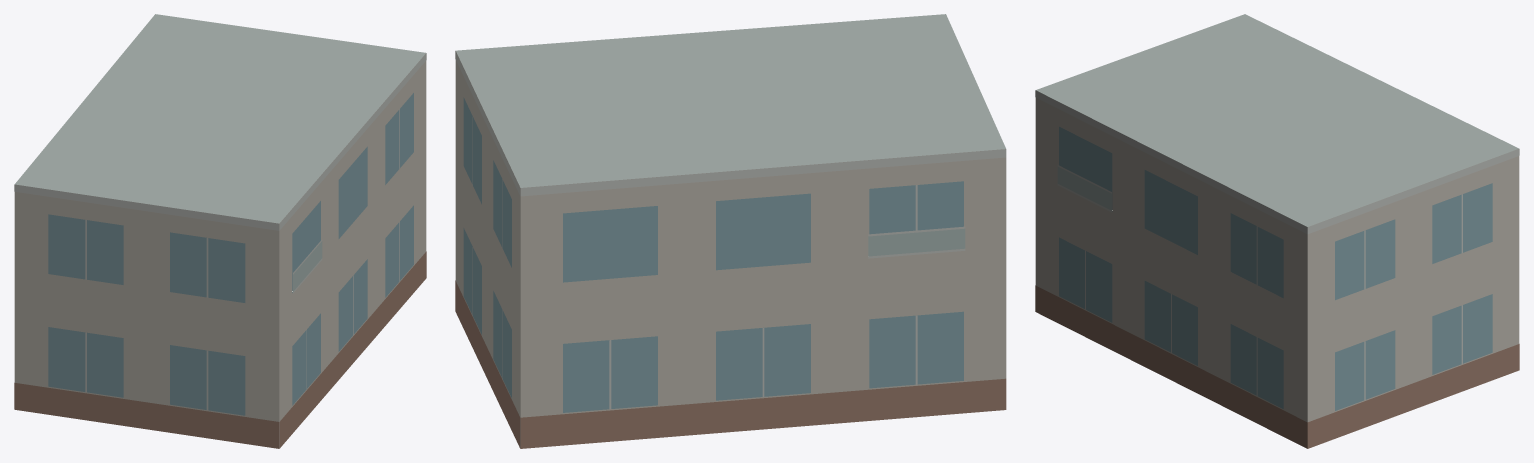
File: survey-upis-32637296.glb
3 renders of one model, left to right at view 1: azimuth 30°, elevation 25°; view 2: azimuth 150°, elevation 25°; view 3: azimuth 270°, elevation 25°, orthographic. The views are drawn at different scales.
Parts seen in each view (by area): view 1: survey-upis-32637296.tmp; view 2: survey-upis-32637296.tmp; view 3: survey-upis-32637296.tmp.
Part boxes in pixels (x1,y1,x2,y2): survey-upis-32637296.tmp: (14,14,426,448); survey-upis-32637296.tmp: (455,14,1006,448); survey-upis-32637296.tmp: (1035,14,1519,448).
Bounding box in the file's own units: 15.47 × 7.5 × 14.84.
